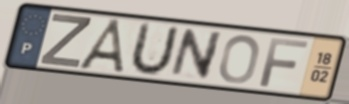A: (75, 17, 129, 77)
F: (257, 36, 311, 89)
N: (167, 27, 226, 82)
O: (217, 33, 263, 86)
U: (126, 20, 182, 78)
Z: (37, 12, 94, 70)
